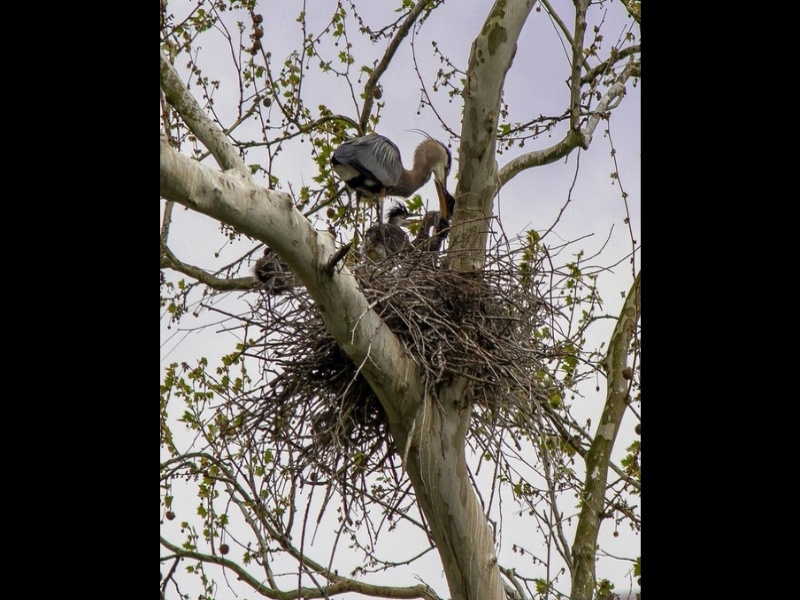heron: (330, 127, 457, 270)
